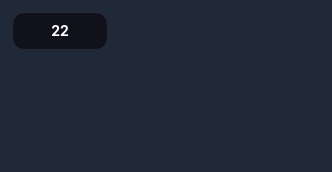
Test case: numeric settings editing › restores the active value when persistence rejects an edit
Replace the text in the number field with "2222" at (60, 31), box [12,12,108,50]
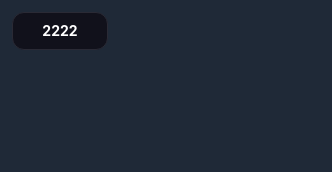
Leave the number field, box [12,12,108,50]
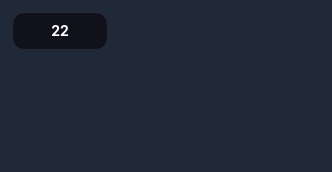
Now the number field holds "22", box [12,12,108,50]
